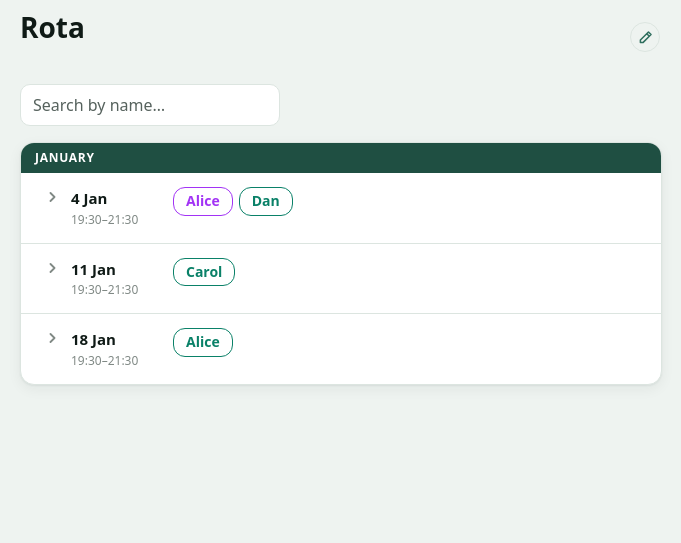
Test case: RotaViewer placement › a shift the carried person is already on is not offered as a destination either
Click the button named "Edit rota": x=645, y=37 [630,22,660,52]
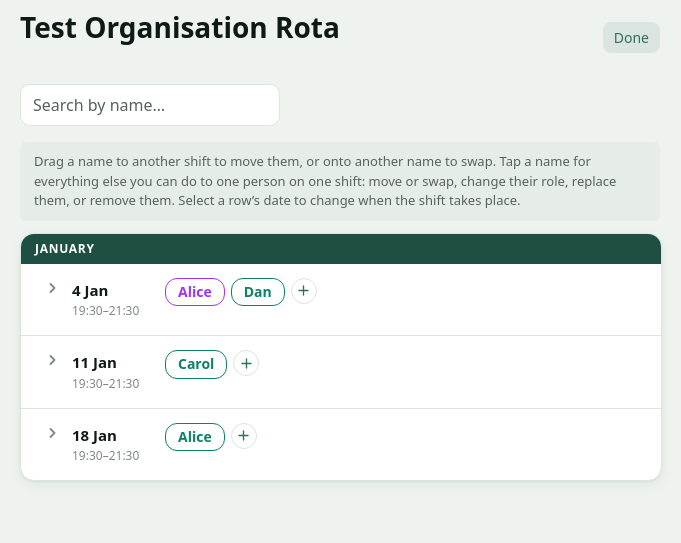
Click the button with aria-label "Alice, change this shift": x=195, y=292 [165,278,225,306]
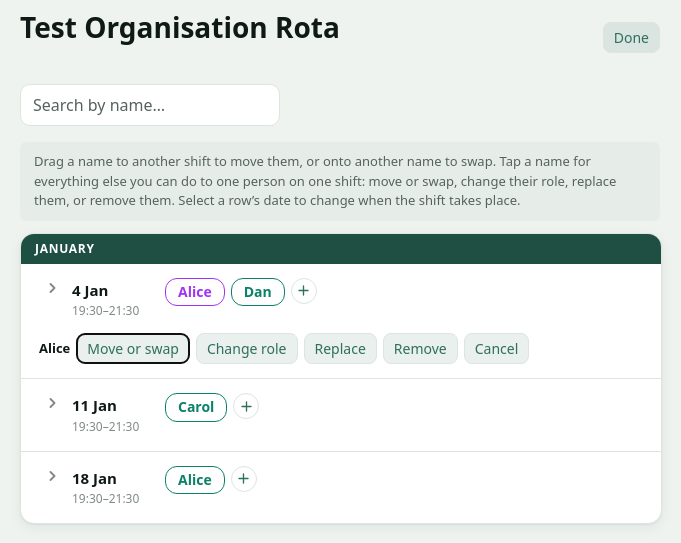
Click the button "Move or swap": x=133, y=348 [76,333,190,364]
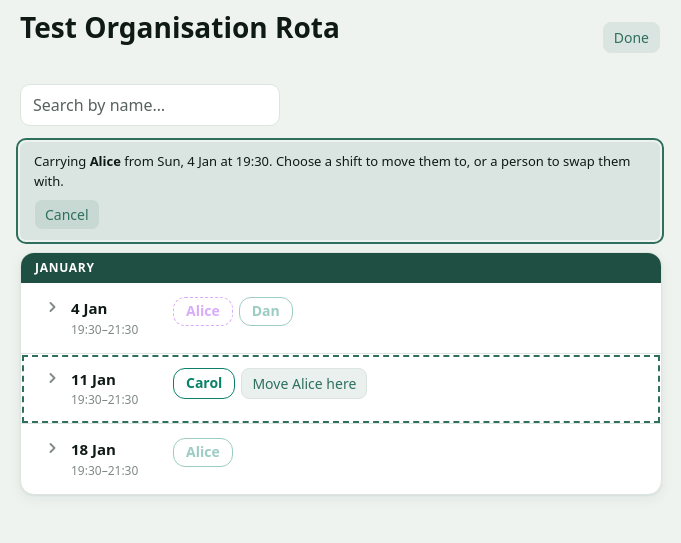
expect the button "Move Alice here" is shown: met, box [241,368,367,398]
